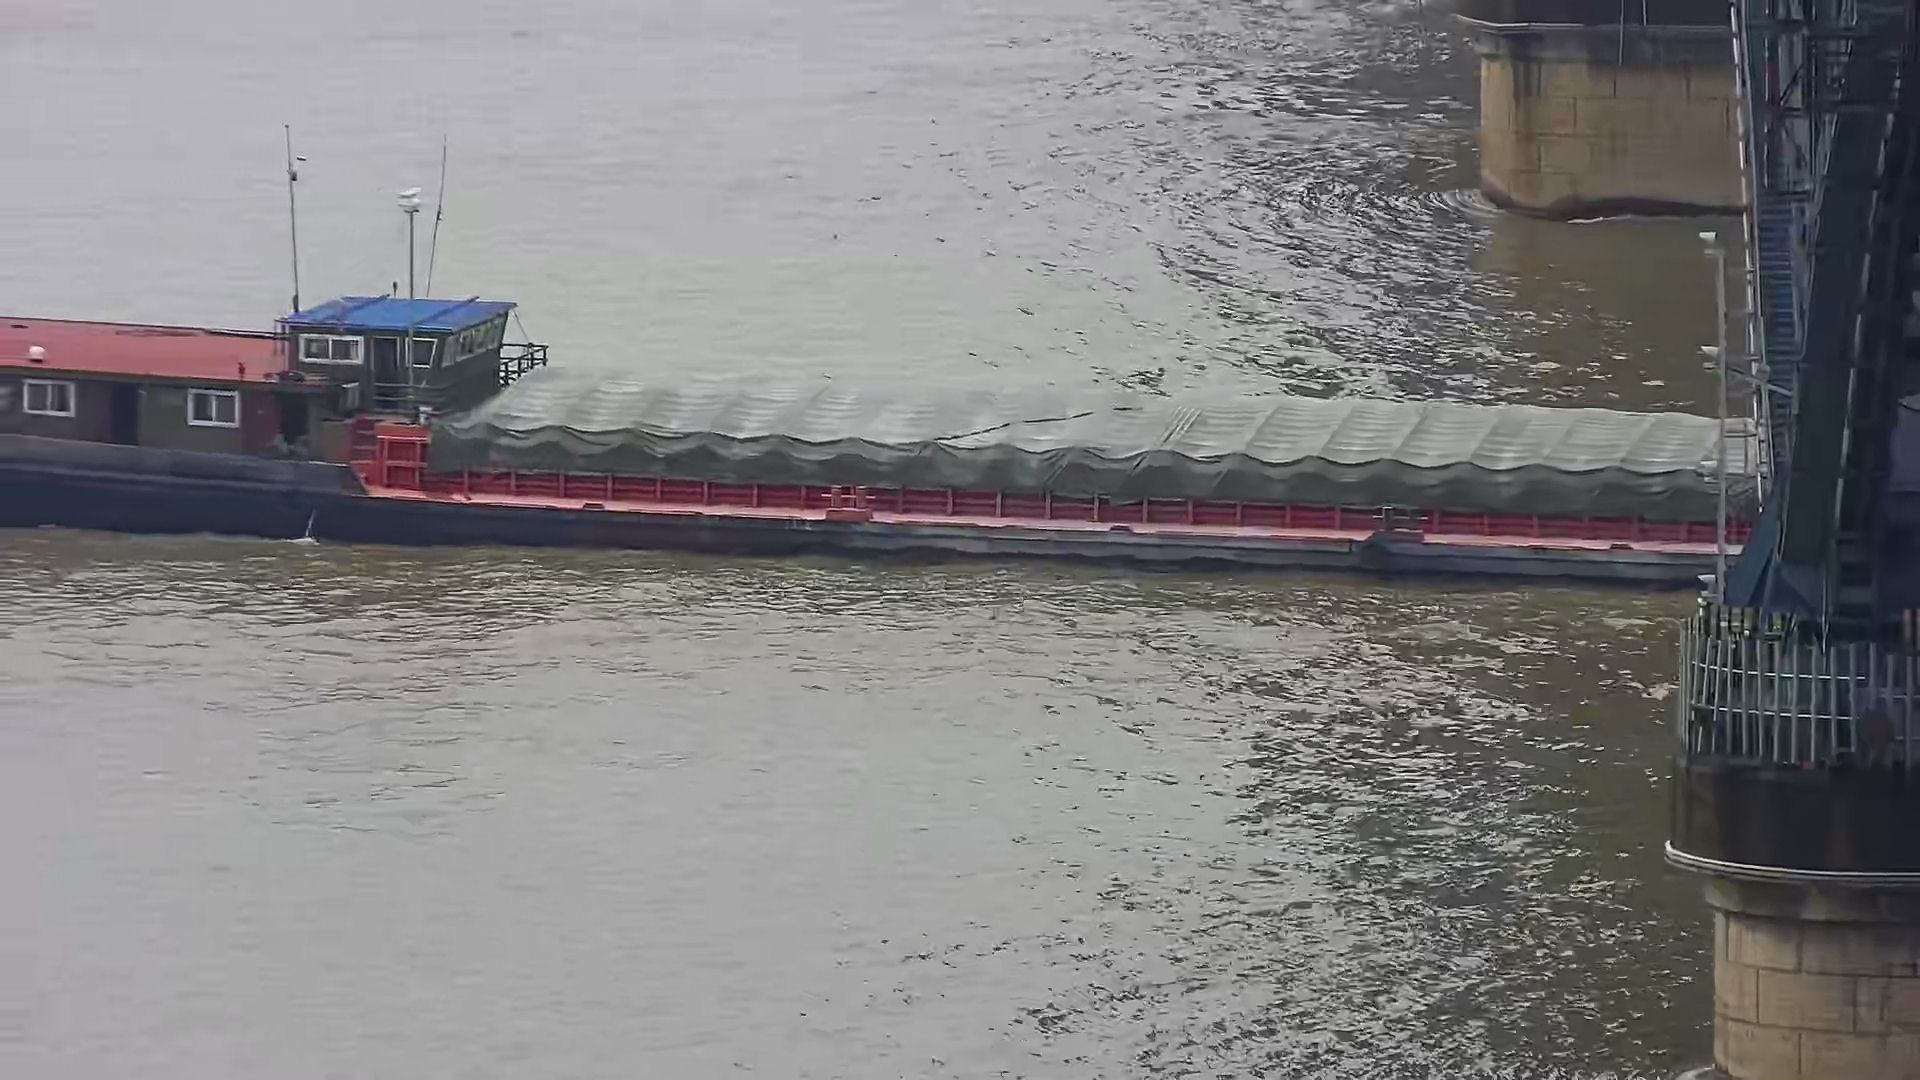bridge: (1461, 4, 1920, 1080)
ship: (1, 247, 1778, 578)
